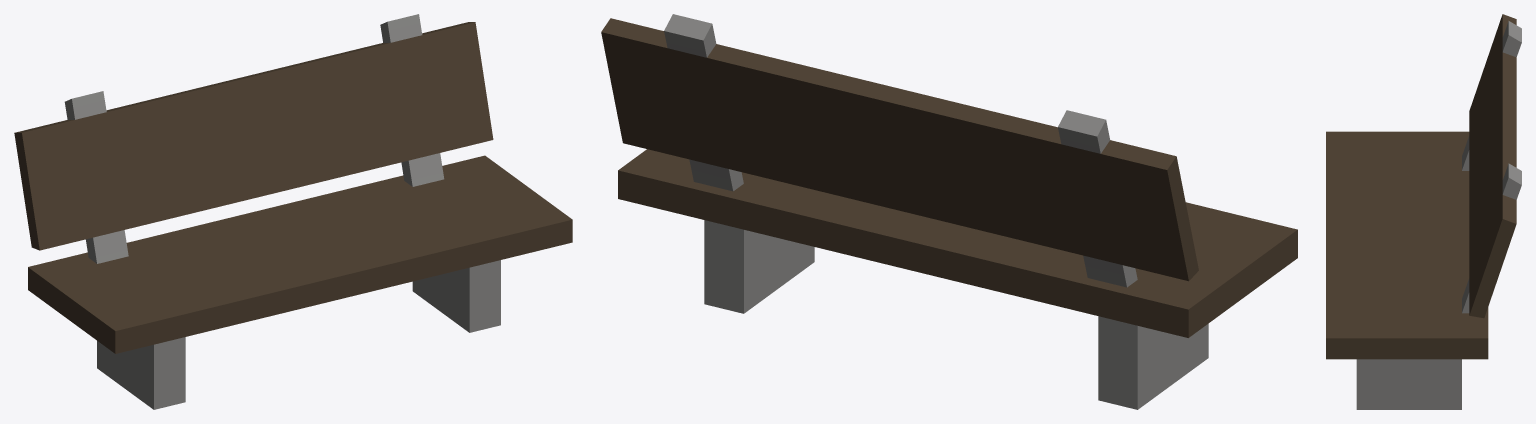
File: bench.fbx
3 views of the same model, side by side, from view 1: azimuth 30°, elevation 25°; view 2: azimuth 150°, elevation 25°; view 3: azimuth 270°, elevation 25° (orthographic). The views are drawn at different scales.
Parts seen in each view (by area): view 1: bench; view 2: bench; view 3: bench.
Boxes of the visible parts, x1,y1,x2,y2 form: bench: [14, 14, 572, 409]; bench: [601, 14, 1297, 409]; bench: [1326, 14, 1521, 409].
Bounding box in the file's own units: 3.9 × 2.05 × 1.56.
